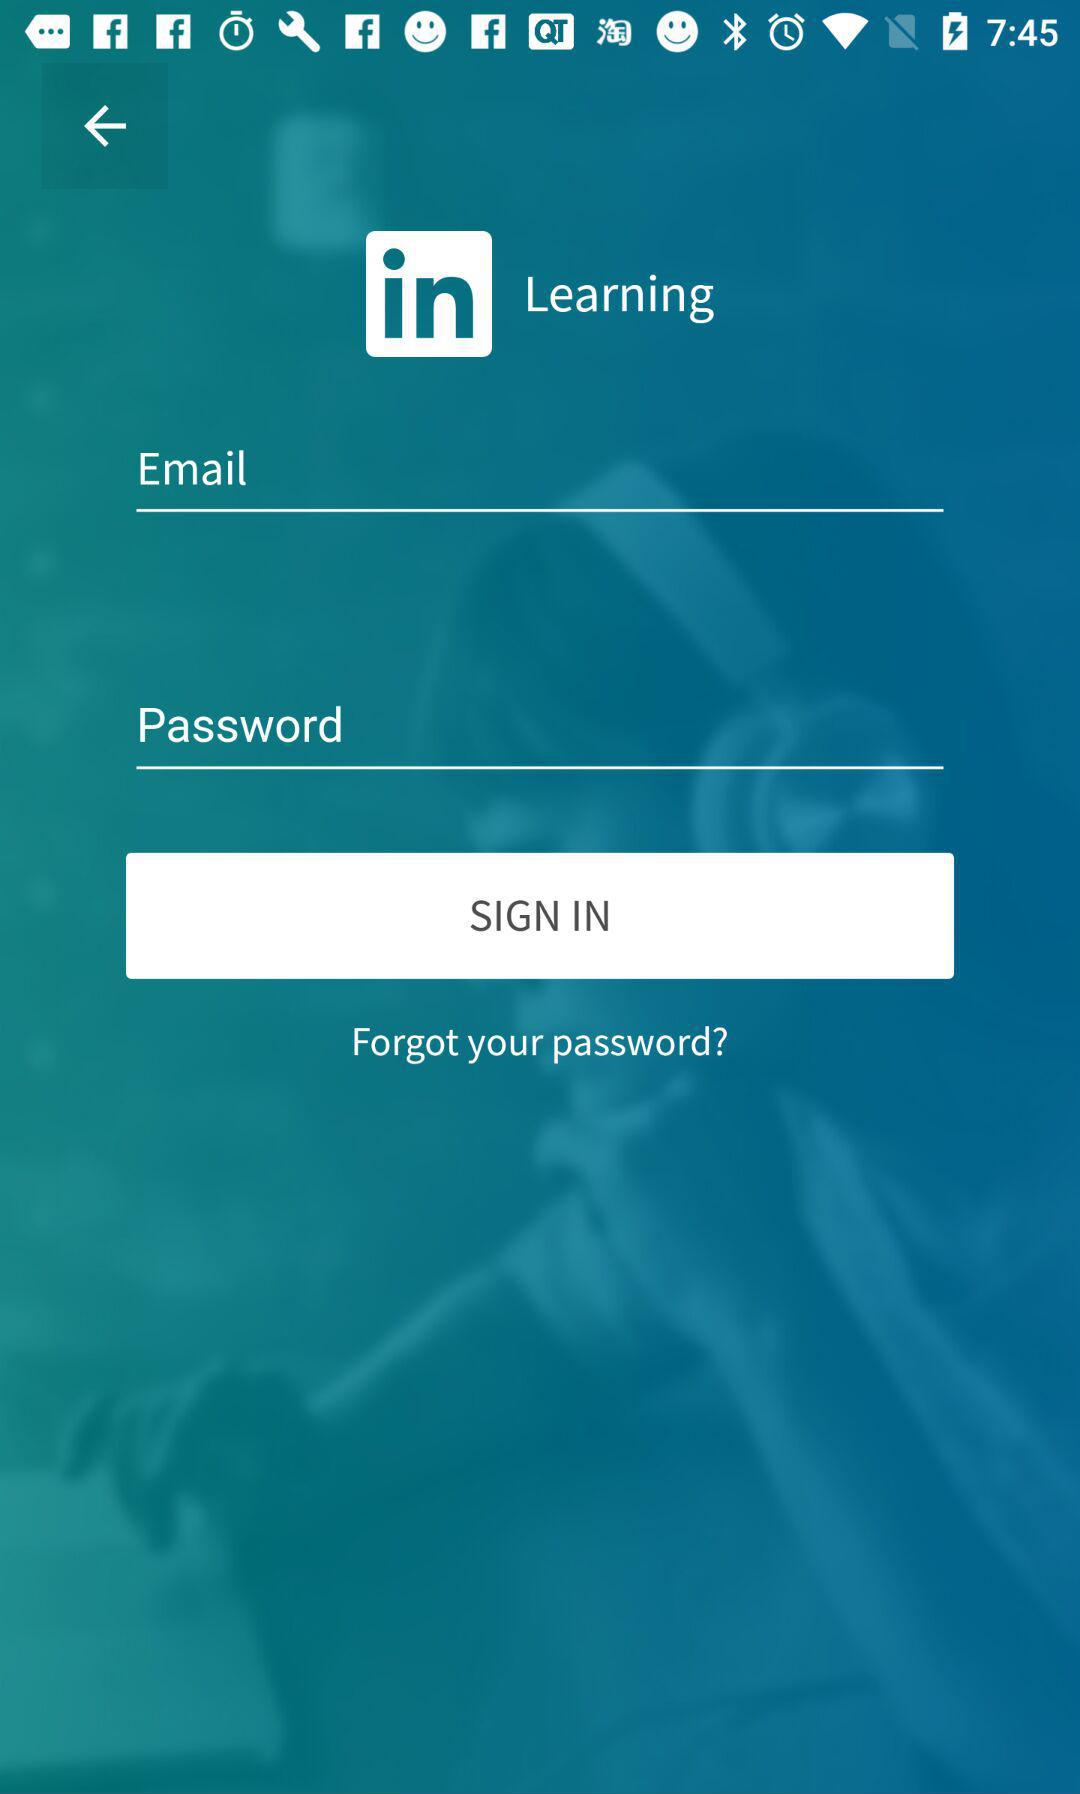EditText: (136, 705, 945, 771), (136, 448, 945, 514)
Icon: (83, 105, 128, 149)
Image: (366, 231, 493, 359)
Text: (354, 1025, 729, 1066), (527, 273, 716, 325), (138, 706, 342, 745), (140, 450, 249, 487)
TextButton: (126, 853, 954, 980)
UpperTaskBar: (1, 1, 1080, 64)
